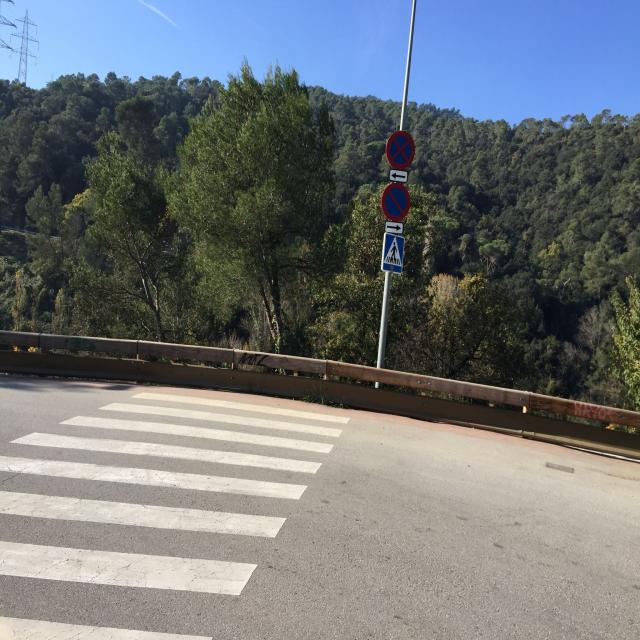forb_stopping: (379, 181, 411, 223)
forb_waiting: (385, 130, 416, 171)
